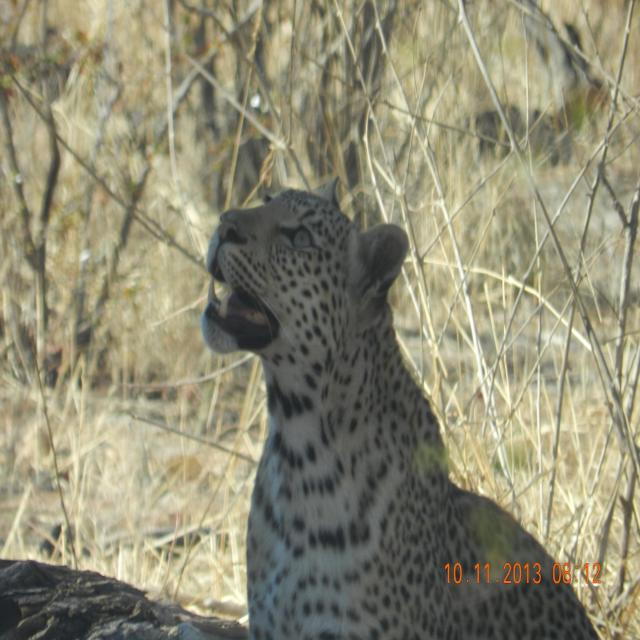Leopard: (131, 153, 616, 640)
